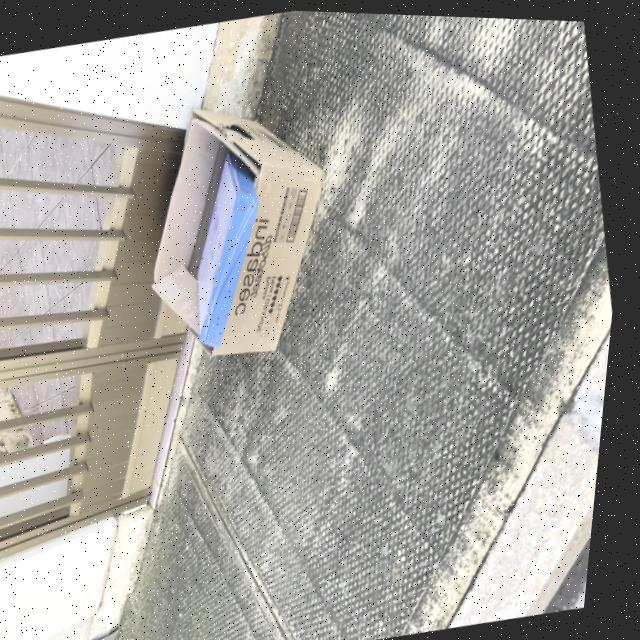Other: (113, 80, 371, 378), (171, 148, 297, 352)
